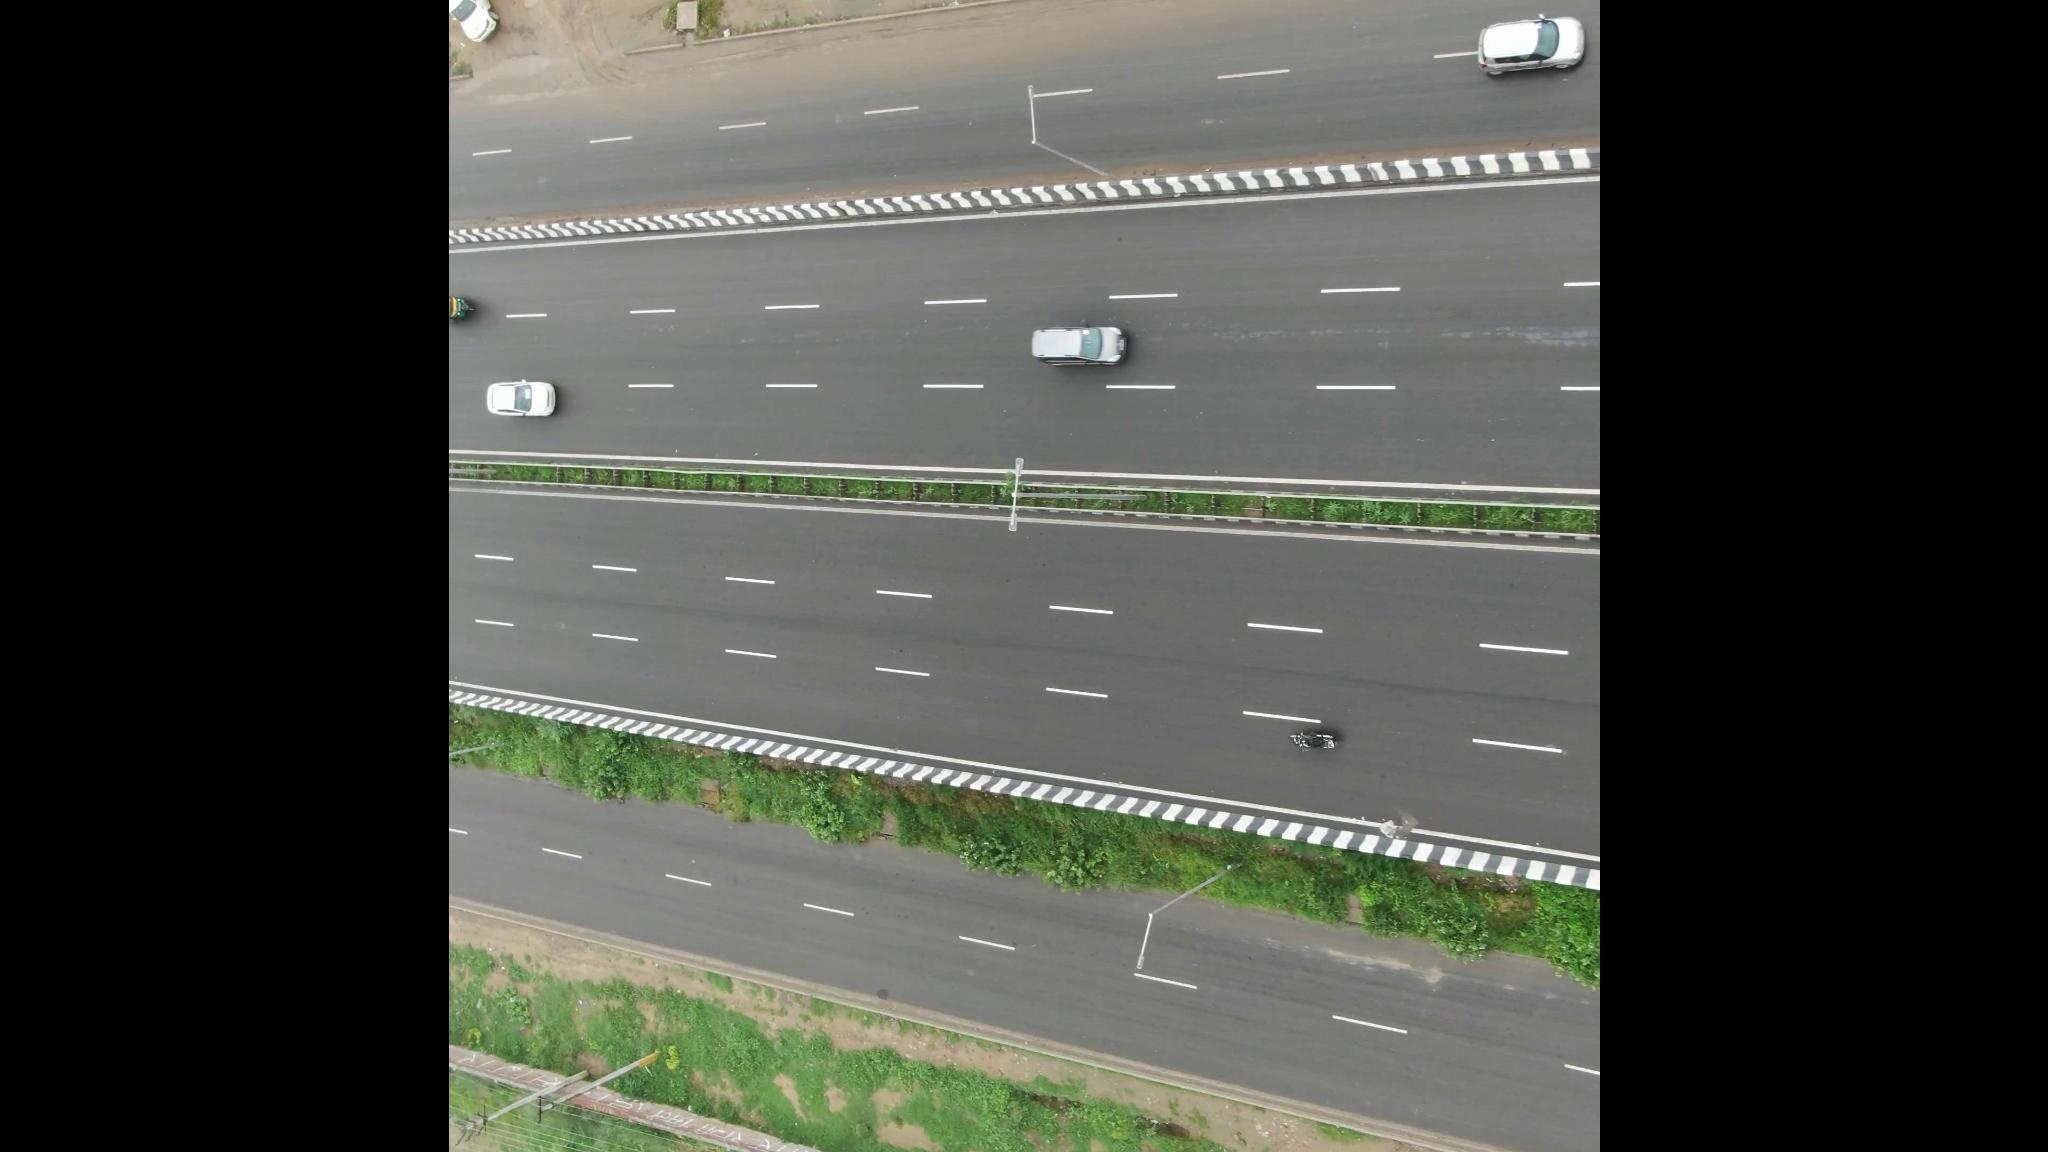Muddy_road: (823, 1, 994, 84), (498, 46, 702, 113)
